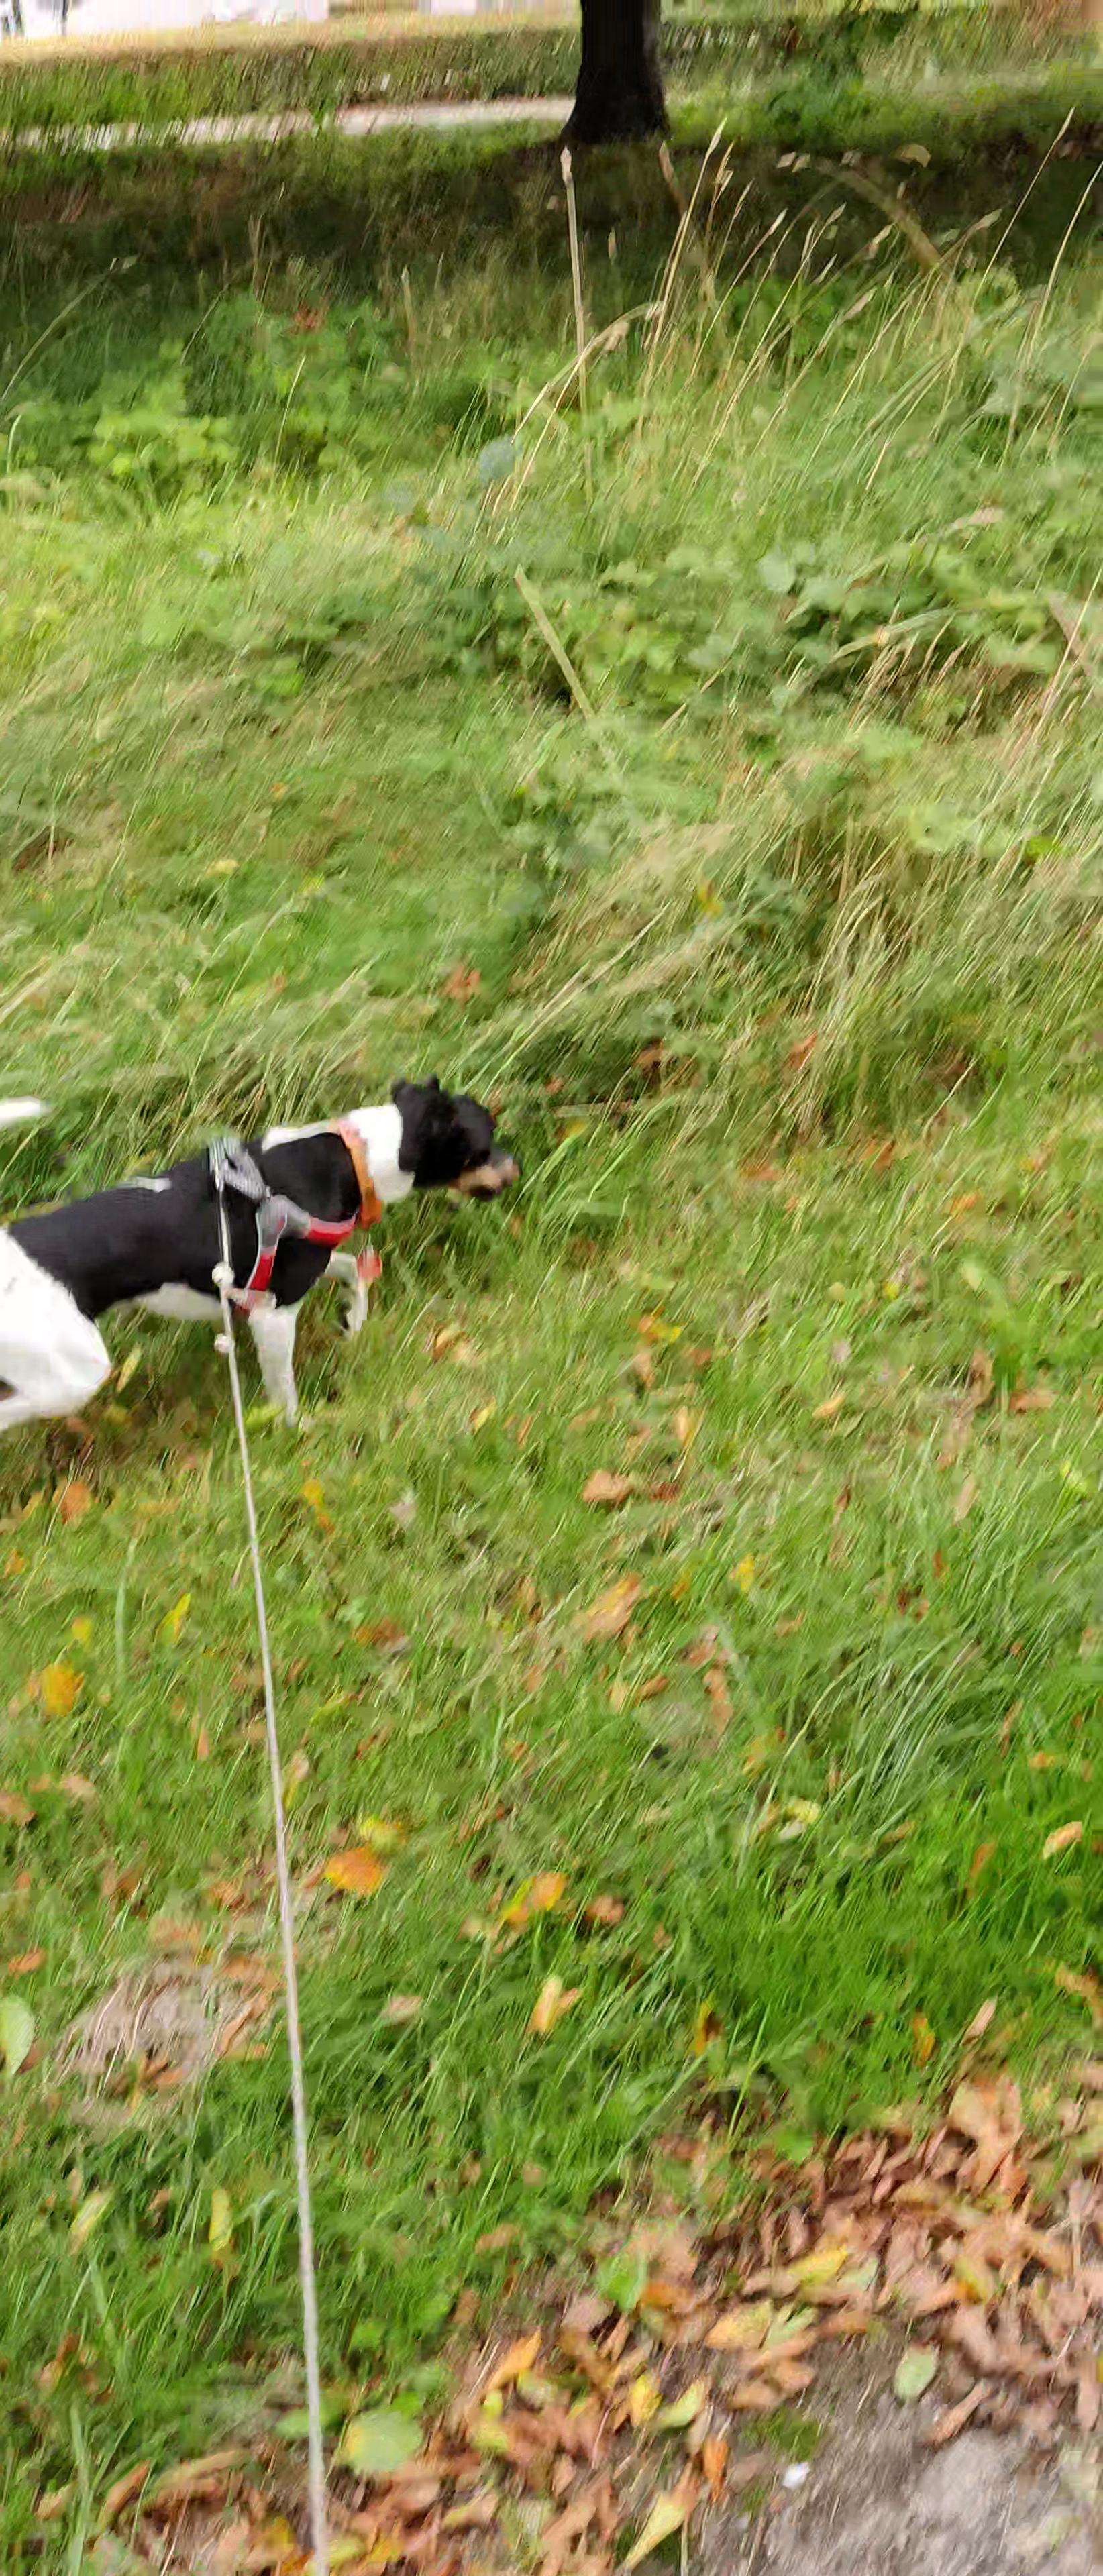Dog: (0, 1063, 526, 1441)
